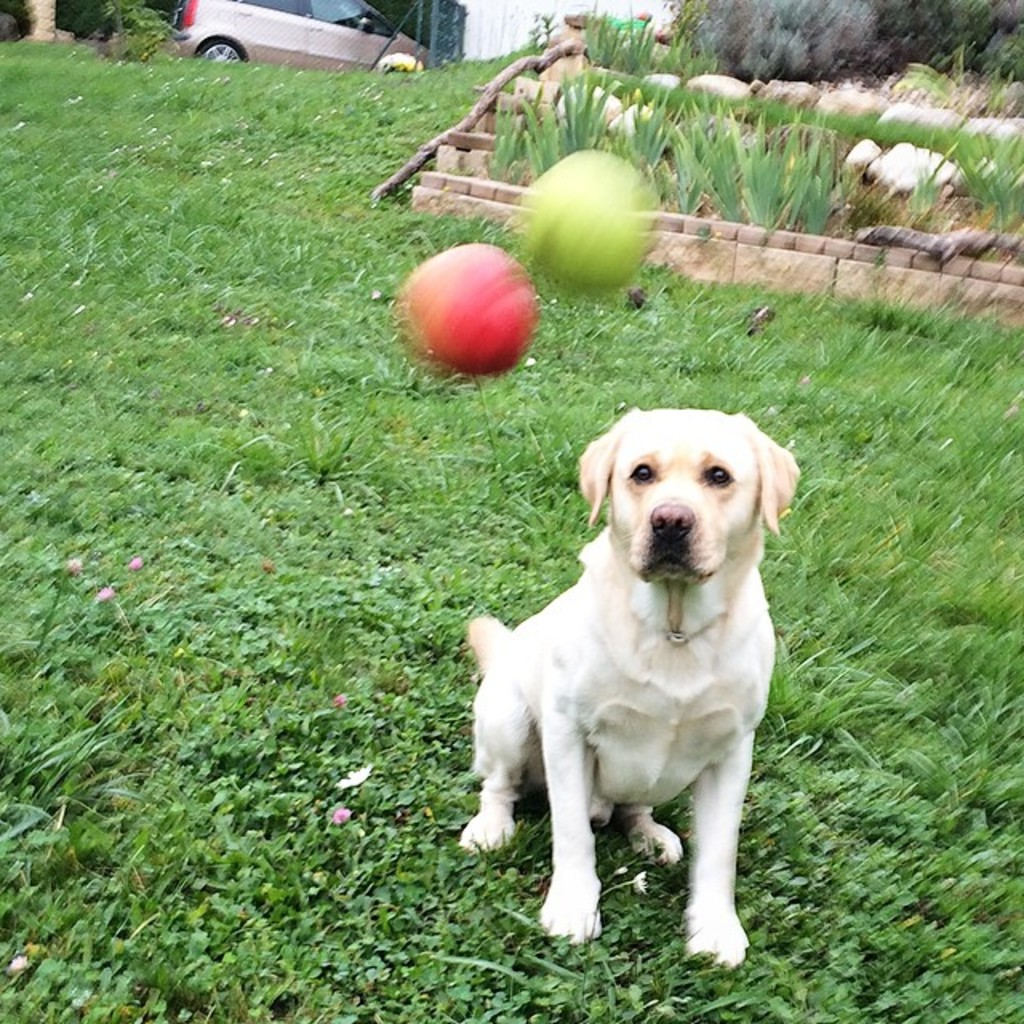Ball: (517, 154, 651, 294), (405, 245, 531, 376)
